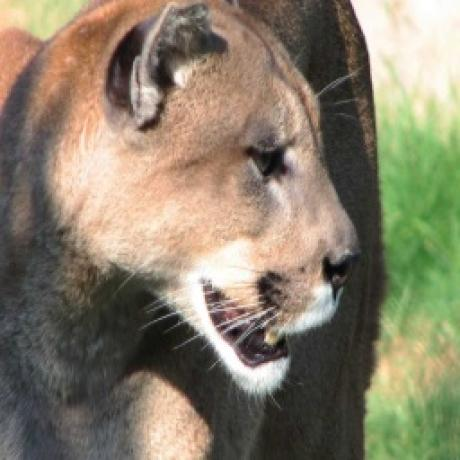Lion: (0, 0, 363, 460)
